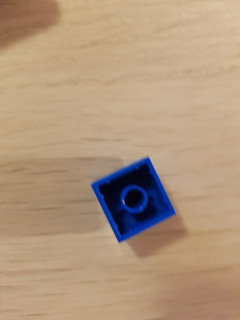2x2 blue: (91, 155, 176, 244)
